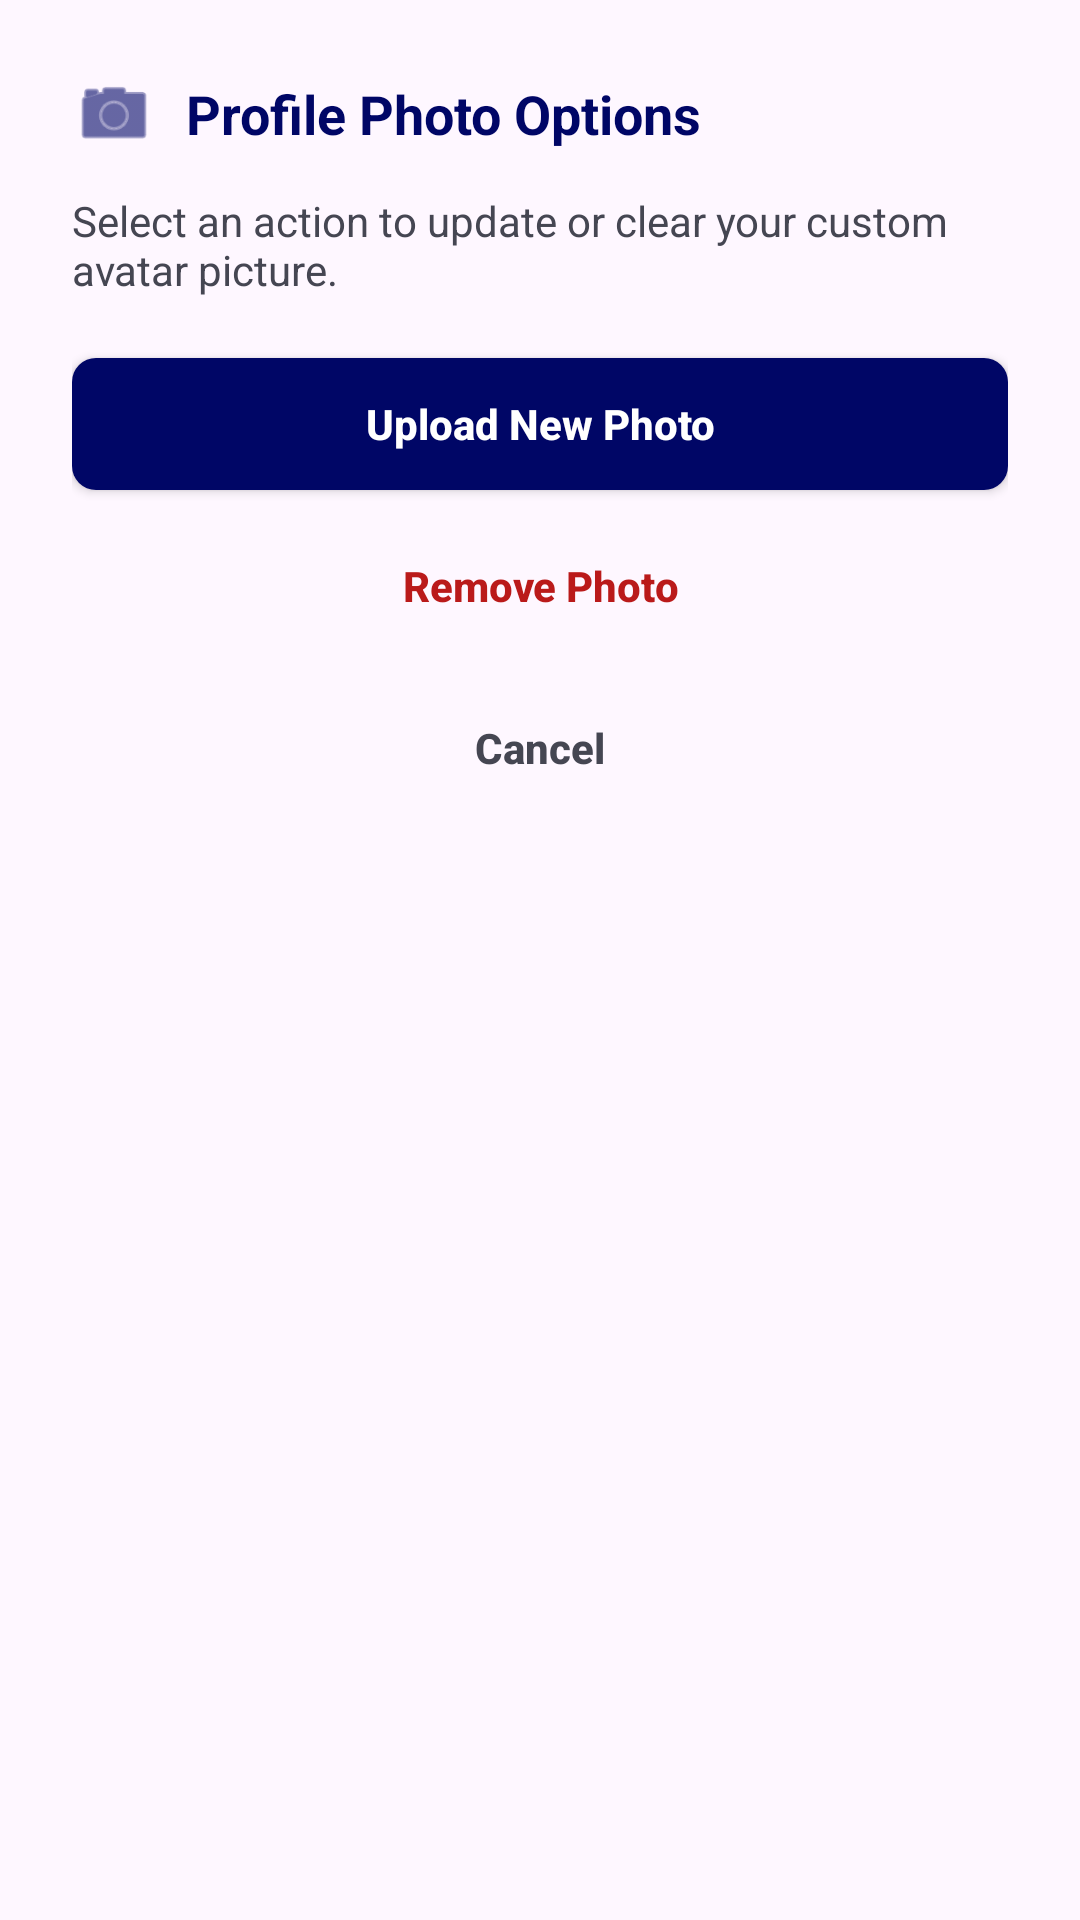

Where icons sit on this 1080×1920 app screen, as (x1, y1, x2, y2):
camera: (81, 87, 147, 139)
